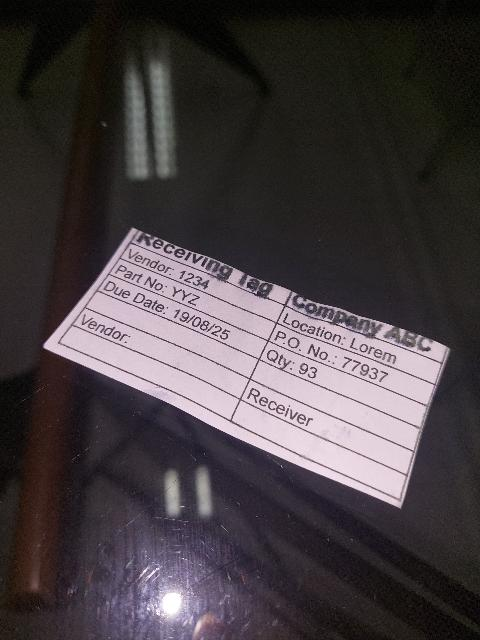PO no: (268, 321, 436, 407)
part no: (109, 257, 276, 341)
qty: (259, 340, 428, 428)
tags: (43, 229, 452, 515)
